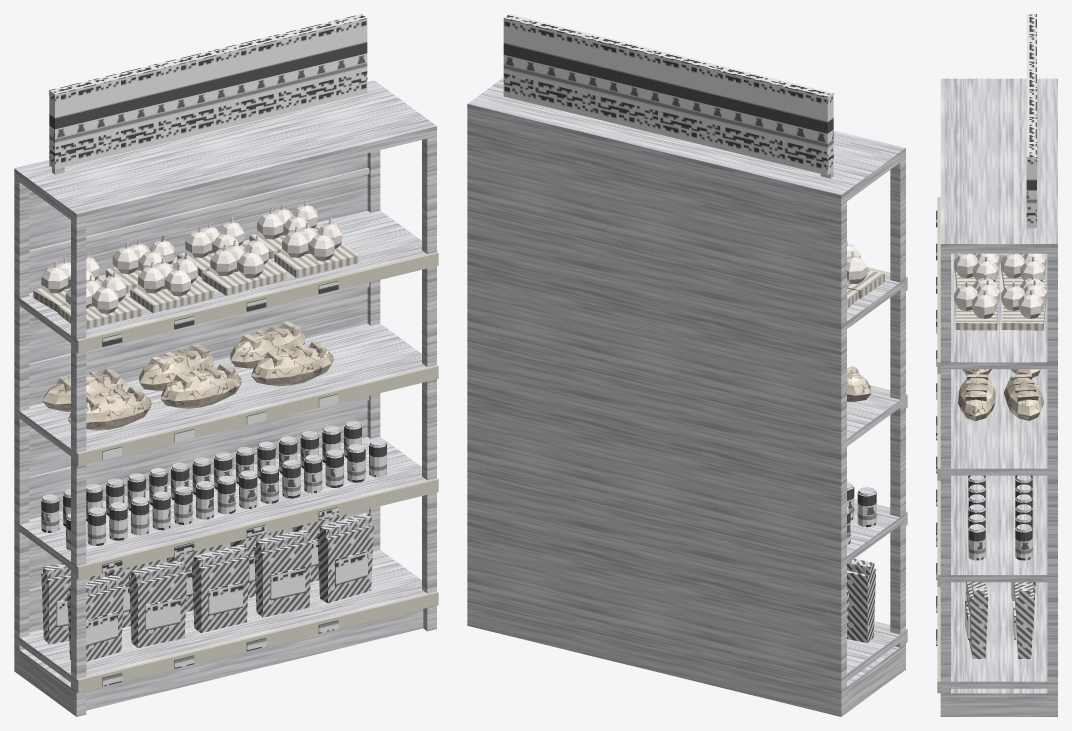
File: scaffale_tipo.obj
3 renders of one model, left to right at view 1: azimuth 30°, elevation 25°; view 2: azimuth 150°, elevation 25°; view 3: azimuth 270°, elevation 25°, orthographic. The views are drawn at different scales.
Parts seen in each view (by area): view 1: metallo_003, metallo_001, stampa_a_007, metallo_000, liscio_005, metallo_004, metallo_002, stampa_b_030, stampa_b_018, stampa_b_024, stampa_b_036, stampa_b_012 (+26 smaller); view 2: metallo_001, stampa_a_007, metallo_003, metallo_000, stampa_b_012, metallo_004; view 3: metallo_003, metallo_000, metallo_004, stampa_a_007, metallo_001, liscio_005, stampa_b_036, stampa_b_033, crosta_109, crosta_107, pelle_136, pelle_140 (+14 smaller).
Boxes of the visible parts, x1,y1,x2,y2 form: metallo_003: (14,82,436,686); metallo_001: (14,80,376,665); stampa_a_007: (49,14,367,668); metallo_000: (14,80,436,716); liscio_005: (76,252,438,692); metallo_004: (19,609,423,713); metallo_002: (29,168,369,595); stampa_b_030: (254,529,311,617); stampa_b_018: (129,560,187,647); stampa_b_024: (191,544,249,633); stampa_b_036: (317,513,373,603); stampa_b_012: (67,574,123,661); metallo_001: (467,104,843,715); stampa_a_007: (503,14,833,175); metallo_003: (467,77,905,685); metallo_000: (467,100,905,716); stampa_b_012: (847,559,876,642); metallo_004: (844,646,901,714); metallo_003: (940,78,1057,688); metallo_000: (940,78,1057,716); metallo_004: (949,688,1052,716); stampa_a_007: (936,14,1036,579); metallo_001: (1052,79,1057,716); liscio_005: (937,197,941,693); stampa_b_036: (966,582,988,658); stampa_b_033: (1014,582,1033,658); crosta_109: (958,374,995,420); crosta_107: (1004,374,1044,420); pelle_136: (1018,278,1047,318); pelle_140: (972,278,1000,318).
Bounding box in the file's own units: 1.5 × 2.32 × 0.467.
20 materials, 19 textured.
